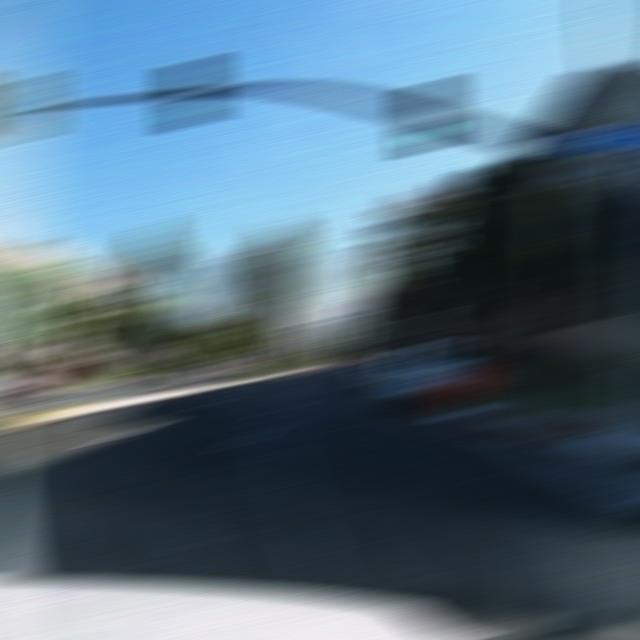speedLimit35: (412, 313, 448, 331)
